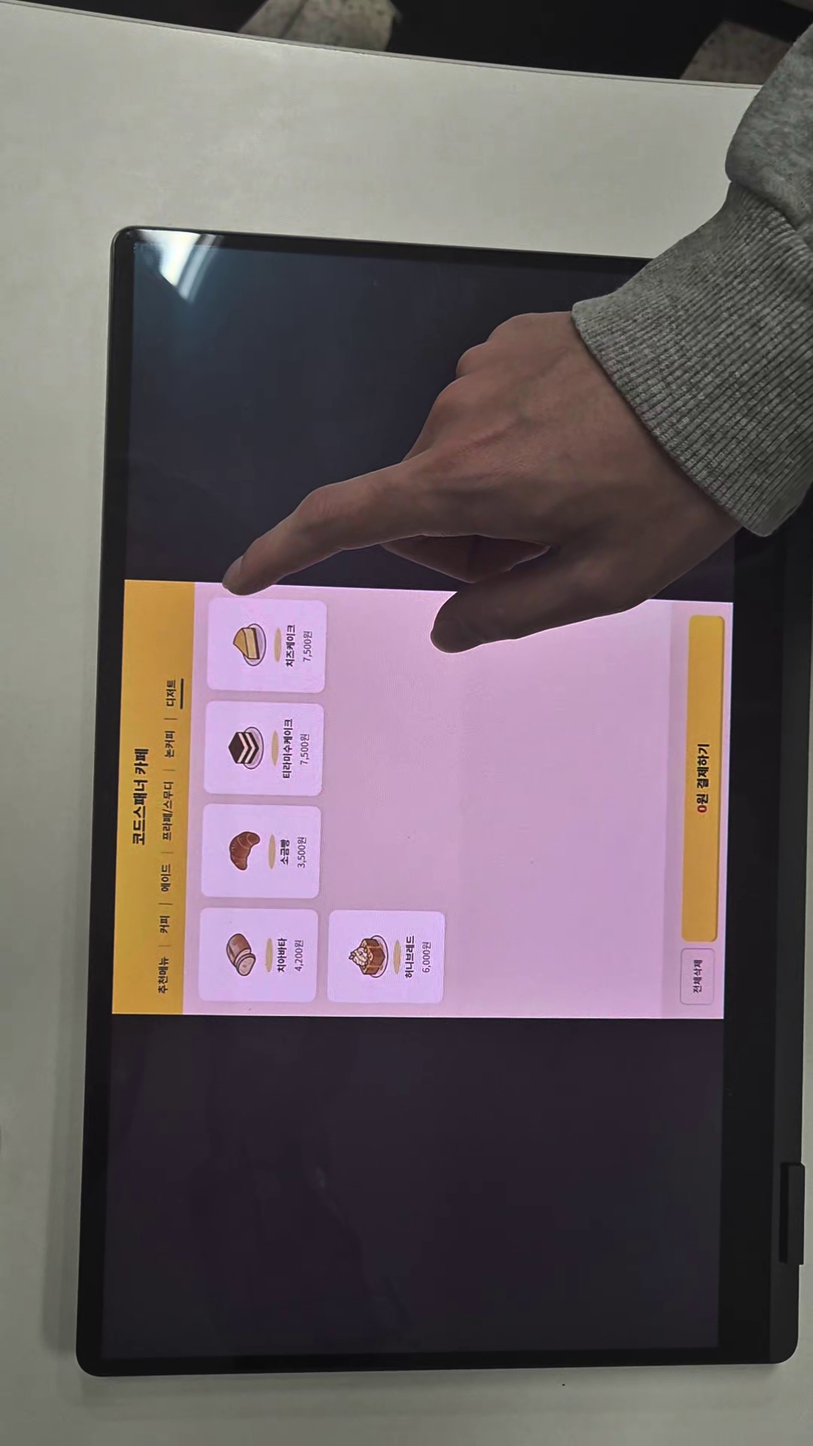action_button: (682, 616, 721, 942), (680, 948, 717, 1005)
category_tab: (157, 779, 178, 845), (156, 725, 179, 766), (156, 951, 172, 1001), (160, 673, 179, 711), (156, 858, 173, 897), (153, 911, 173, 935)
menu_back: (207, 595, 328, 693), (201, 805, 322, 903), (201, 907, 318, 1004), (205, 700, 322, 796), (328, 908, 445, 1001)
menu_name: (281, 714, 295, 784), (282, 620, 296, 672), (277, 834, 295, 870), (403, 932, 416, 979), (275, 936, 287, 974)
menu_price: (294, 729, 317, 769), (294, 930, 310, 979), (298, 626, 314, 670), (296, 831, 311, 873), (420, 934, 432, 981)
